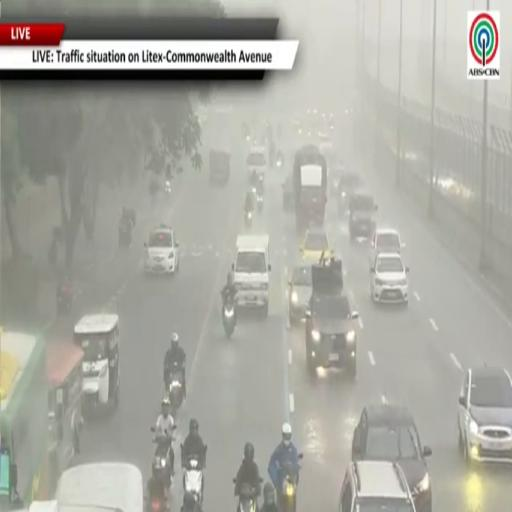bus: (0, 331, 48, 510)
car: (352, 405, 432, 511), (459, 366, 511, 463), (338, 461, 416, 511), (370, 253, 408, 303), (144, 224, 179, 274), (333, 164, 362, 216), (349, 191, 377, 241), (369, 229, 405, 267), (288, 265, 311, 324), (300, 228, 333, 262), (328, 160, 345, 197), (282, 173, 295, 211)
jeepney: (47, 342, 83, 490)
motorcycle: (154, 425, 176, 488), (148, 457, 169, 511), (183, 455, 203, 505), (279, 463, 299, 511), (168, 368, 184, 411), (222, 295, 236, 339), (237, 483, 257, 511), (57, 283, 73, 313), (119, 219, 132, 247), (276, 152, 283, 169), (245, 211, 252, 228), (257, 195, 263, 212), (165, 181, 171, 195)
truck: (305, 258, 358, 378), (232, 235, 270, 317), (294, 144, 327, 230), (208, 150, 230, 184)
